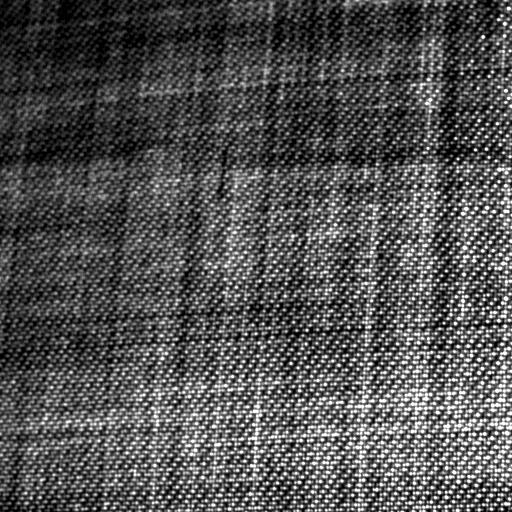fabric_perfect: (4, 2, 512, 510)
